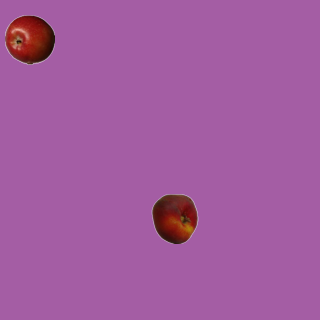Apple Braeburn: (4, 14, 54, 64)
Nectarine Flat: (149, 193, 199, 243)
